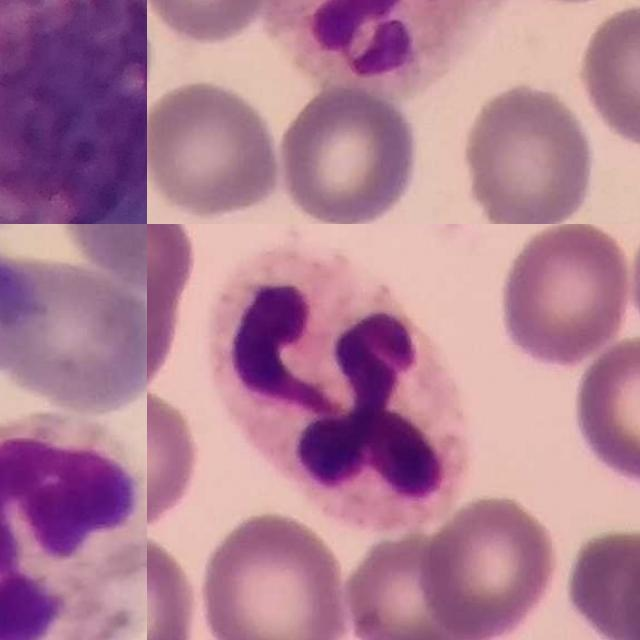Basophil: (0, 0, 147, 224)
Lymphocyte: (65, 60, 147, 224)
Neutrophil: (211, 247, 468, 530), (0, 415, 147, 640), (264, 0, 527, 99)
